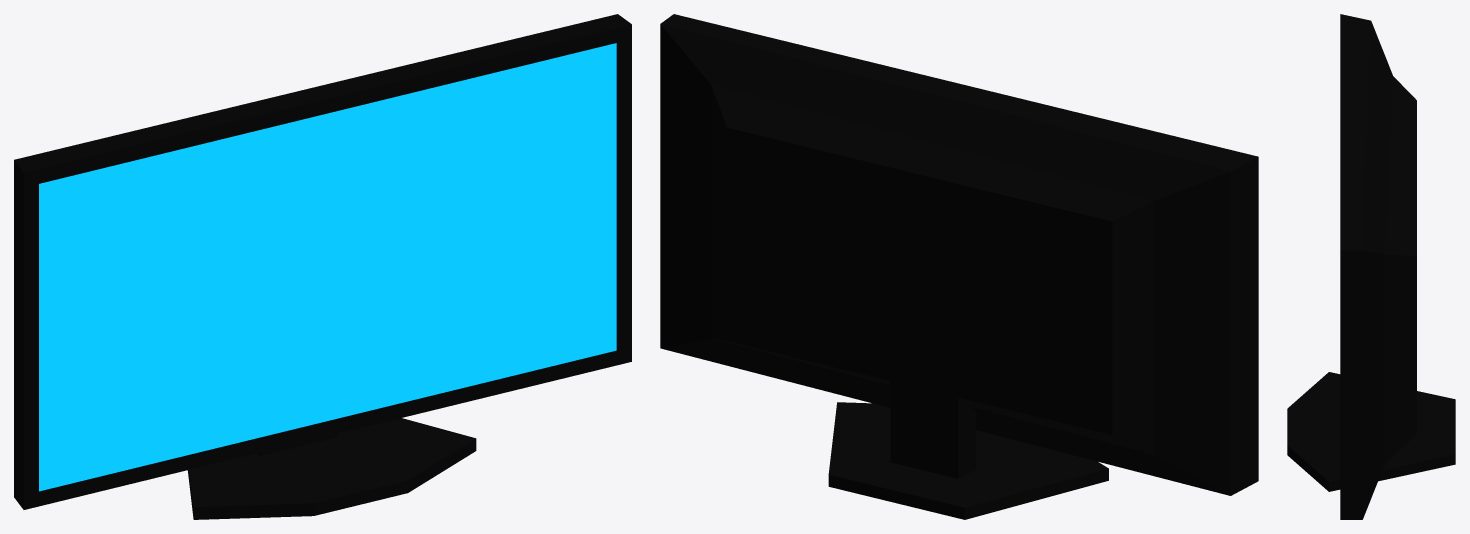
3 renders of one model, left to right at view 1: azimuth 30°, elevation 25°; view 2: azimuth 150°, elevation 25°; view 3: azimuth 270°, elevation 25°, orthographic. The views are drawn at different scales.
Parts seen in each view (by area): view 1: TV; view 2: TV; view 3: TV.
Boxes of the visible parts, x1,y1,x2,y2 form: TV: (14,14,631,519); TV: (660,14,1258,519); TV: (1287,14,1455,519).
Bounding box in the file's own units: 1 × 0.6 × 0.3.
